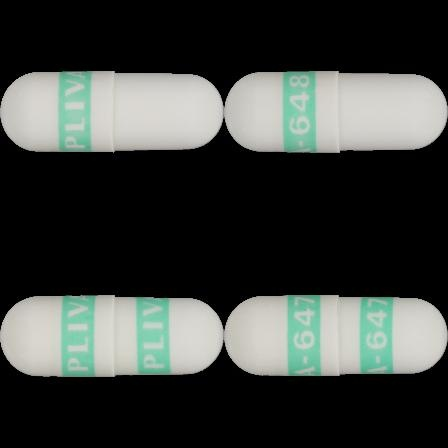68645-130: (0, 0, 224, 224)
